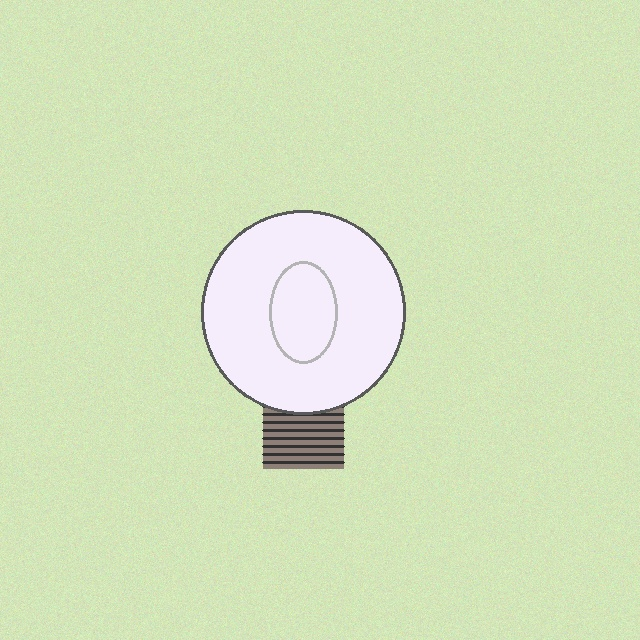bulb: (197, 206, 409, 473)
